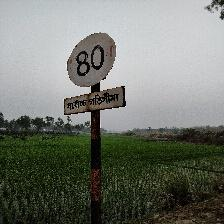Speed-limit: (64, 32, 124, 116)
